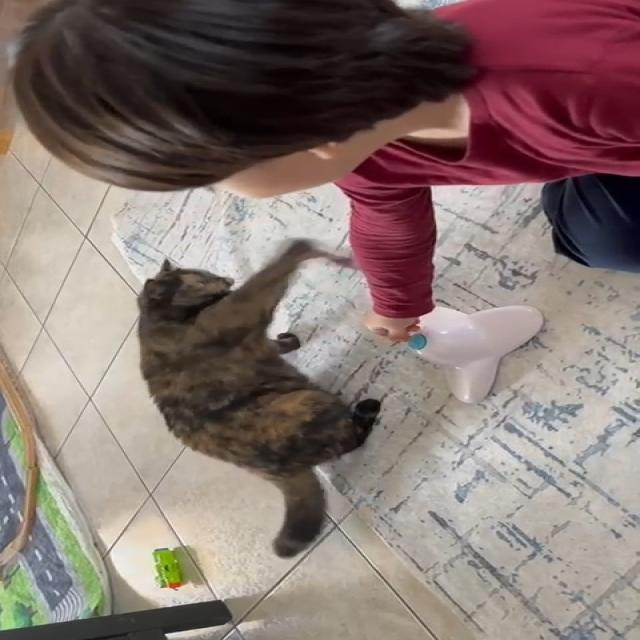authorized: (134, 238, 382, 558)
